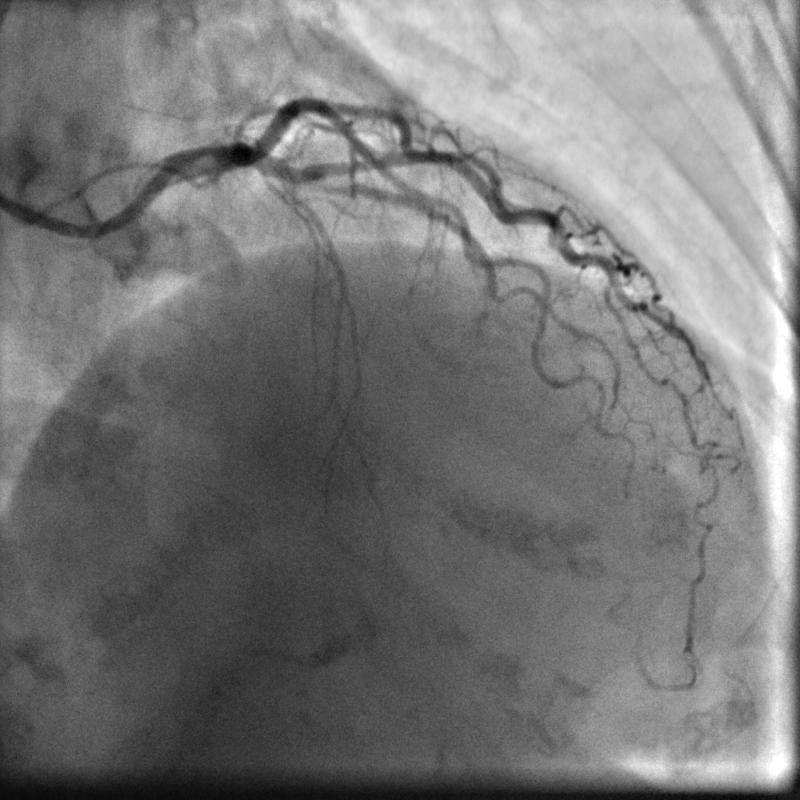Stenosis: (325, 178, 360, 197)
